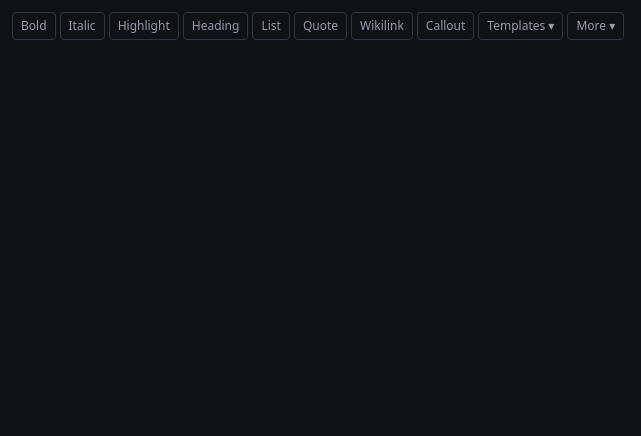
Test: FormatToolbar › closes the More menu after an action is chosen
Click the button "More ▾". click: (596, 26)
box: top-left (567, 12), bottom-right (624, 40)
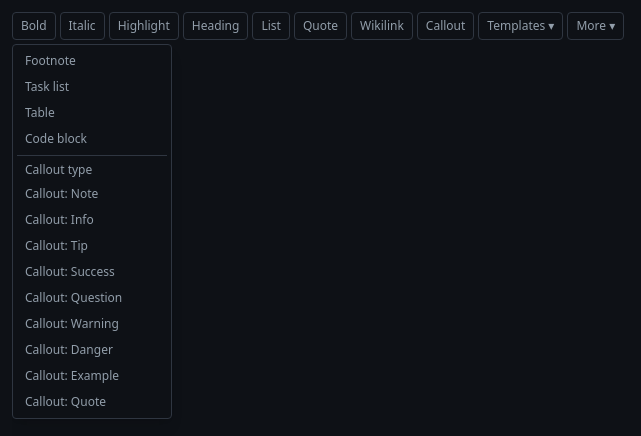
Click the button "Table". click: (92, 113)
box: top-left (17, 101), bottom-right (167, 125)
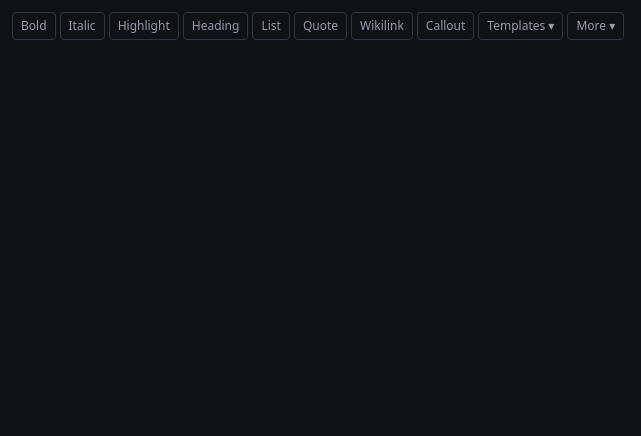
Check: the button "Footnote" is gone
